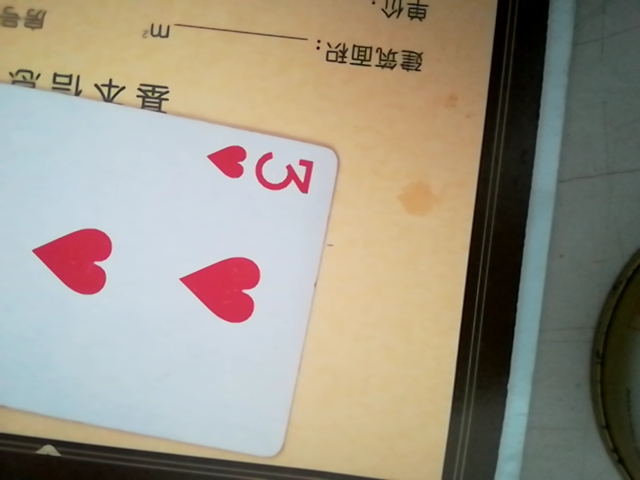hx 3: (10, 57, 347, 454)
